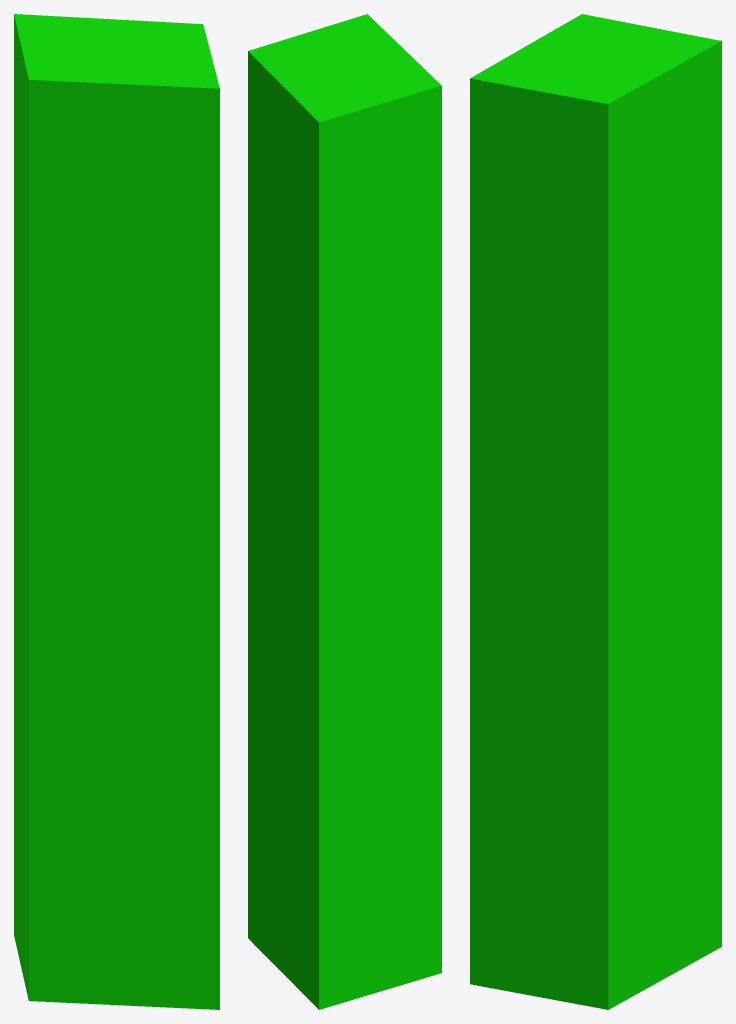
3 views of the same model, side by side, from view 1: azimuth 30°, elevation 25°; view 2: azimuth 150°, elevation 25°; view 3: azimuth 270°, elevation 25° (orthographic). The views are drawn at different scales.
Parts seen in each view (by area): view 1: Plane.025; view 2: Plane.025; view 3: Plane.025.
Boxes of the visible parts, <box> form: Plane.025: <box>14,14,219,1009</box>; Plane.025: <box>248,14,441,1009</box>; Plane.025: <box>470,14,721,1009</box>.
Size of the model in its own units: 180 by 844 by 213.
